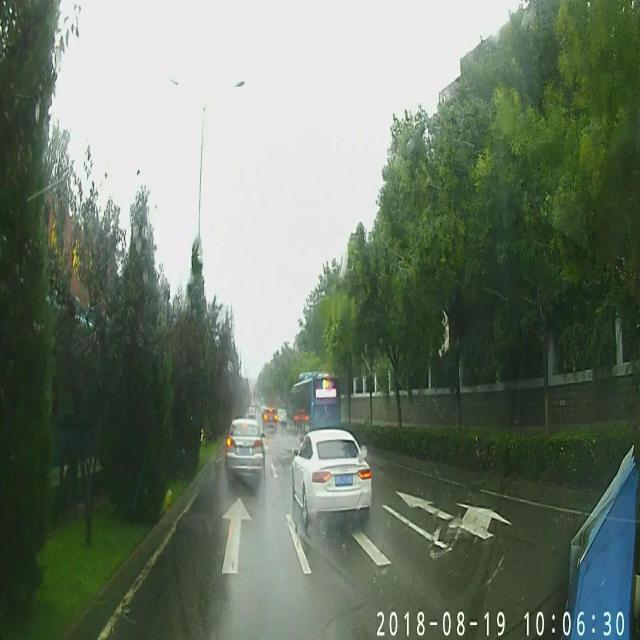car: (291, 429, 372, 519), (225, 418, 266, 484), (260, 404, 276, 433), (278, 409, 286, 424), (248, 402, 255, 418)
